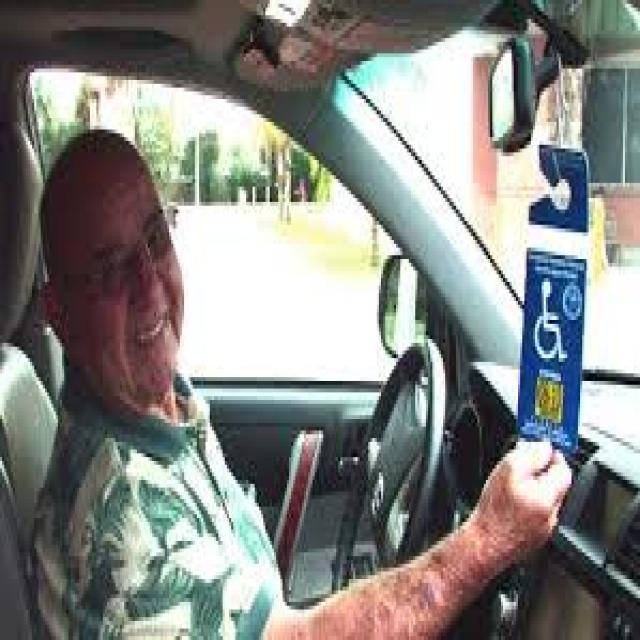car-handicap-placard: (534, 275, 570, 366)
